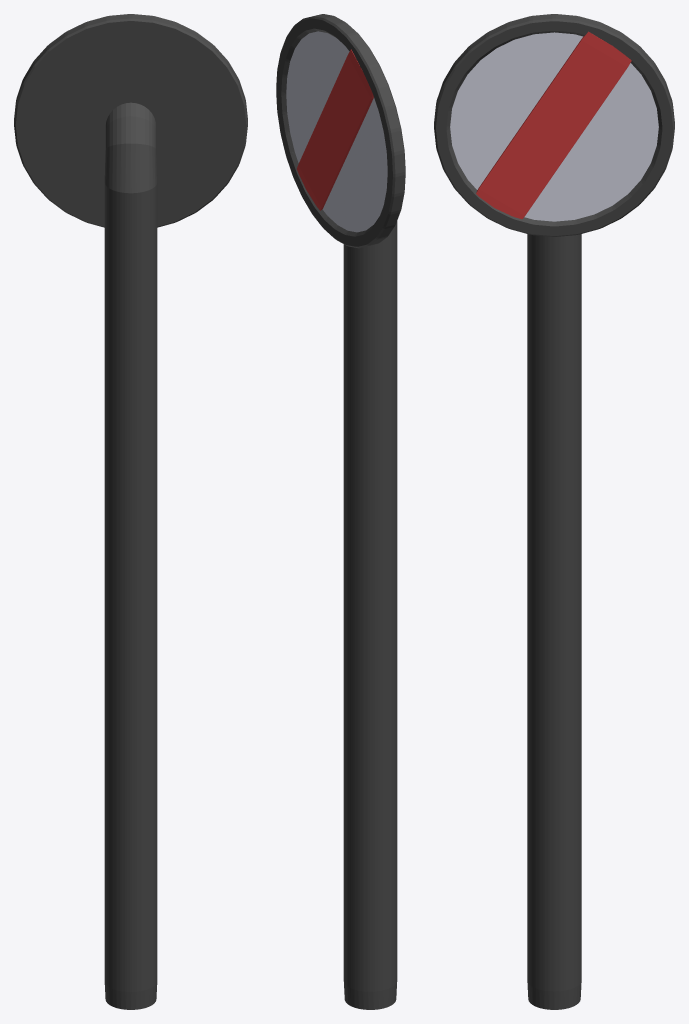
File: Placa.fbx
3 views of the same model, side by side, from view 1: azimuth 90°, elevation 25°; view 2: azimuth 210°, elevation 25°; view 3: azimuth 270°, elevation 25° (orthographic). The views are drawn at different scales.
Parts seen in each view (by area): view 1: Cylinder, Circle.002; view 2: Cylinder, Circle.001, Circle.002, Cube; view 3: Cylinder, Circle.001, Circle.002, Cube.
Boxes of the visible parts, x1,y1,x2,y2 form: Cylinder: (104, 102, 157, 1009); Circle.002: (14, 14, 247, 227); Cylinder: (343, 221, 397, 1009); Circle.001: (286, 31, 387, 232); Circle.002: (276, 14, 405, 248); Cube: (297, 49, 373, 210); Cylinder: (527, 234, 581, 1009); Circle.001: (450, 32, 658, 221); Circle.002: (434, 14, 674, 236); Cube: (476, 31, 631, 219).
Bounding box in the file's own units: 57.87 × 913 × 200.
